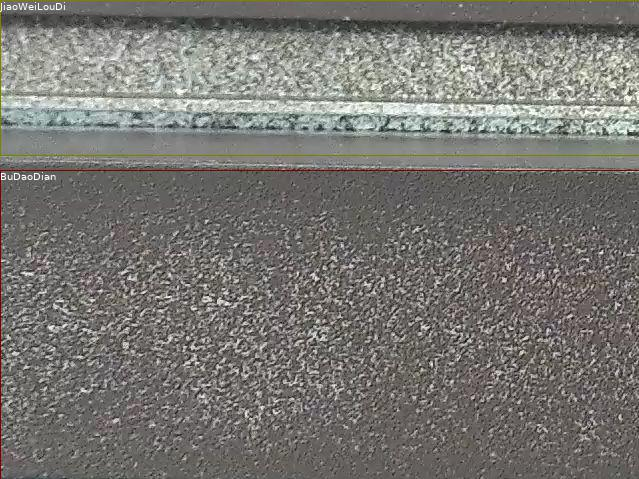BuDaoDian: (0, 170, 639, 479)
JiaoWeiLouDi: (0, 0, 639, 155)
